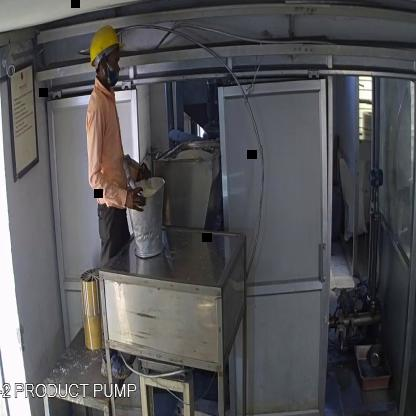helmet: (86, 21, 124, 67)
